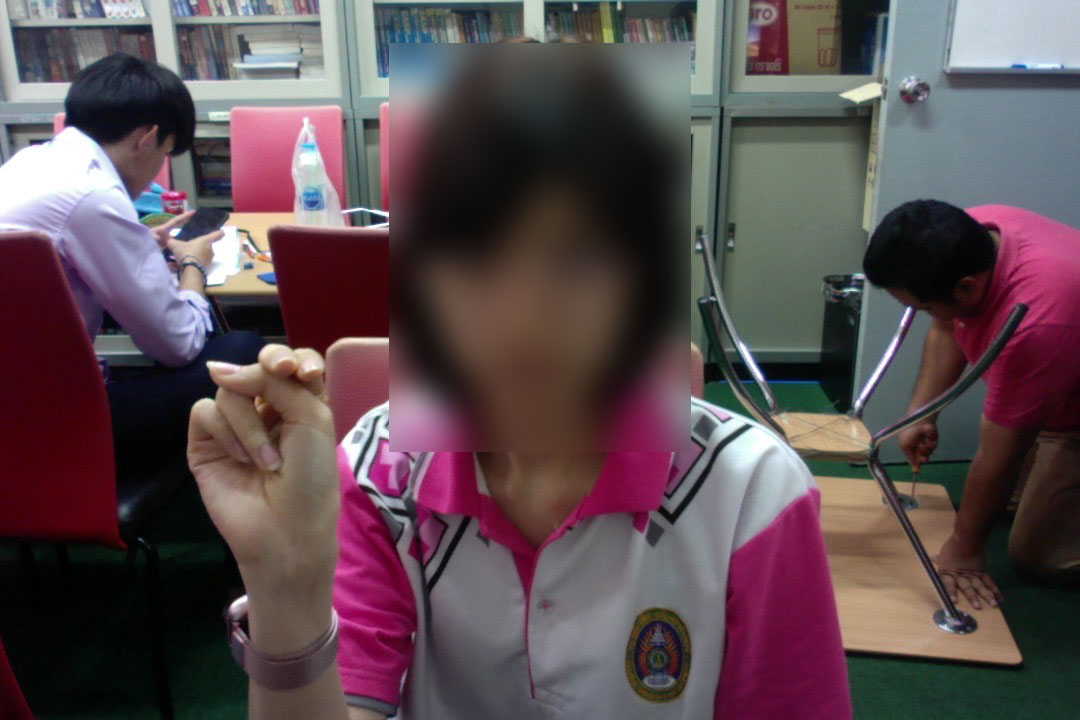nor: (180, 341, 345, 591)
